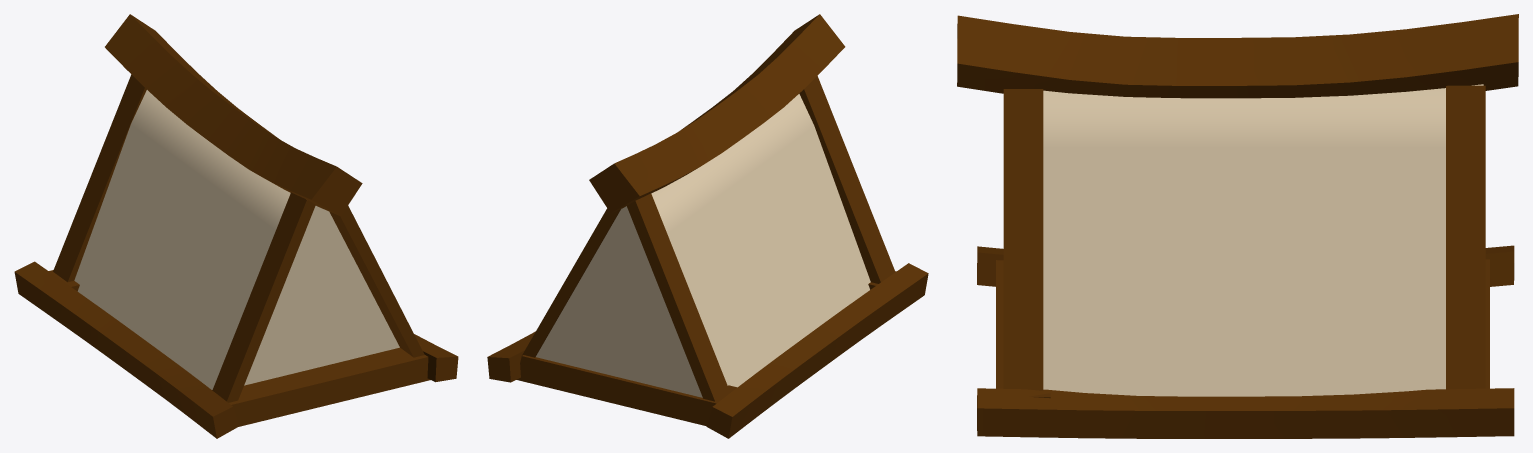
The model's file is roof2LowP.fbx.
The picture shows the model from 3 angles, left to right: view 1: azimuth 30°, elevation 25°; view 2: azimuth 150°, elevation 25°; view 3: azimuth 270°, elevation 25°; orthographic projection. The views are drawn at different scales.
Parts seen in each view (by area): view 1: pCube123, pCube24, pCube143, pCube124, pCube125, pCube130, pCube126, pCube142; view 2: pCube123, pCube24, pCube143, pCube130, pCube128, pCube125, pCube131, pCube142; view 3: pCube123, pCube24, pCube142, pCube126, pCube131, pCube143, pCube124, pCube128.
Part boxes in pixels (x1=…): pCube123: x1=74, y1=90, x2=399, y2=389; pCube24: x1=105, y1=14, x2=362, y2=216; pCube143: x1=14, y1=261, x2=238, y2=438; pCube124: x1=229, y1=344, x2=430, y2=426; pCube125: x1=212, y1=192, x2=315, y2=402; pCube130: x1=53, y1=74, x2=146, y2=282; pCube126: x1=329, y1=205, x2=424, y2=357; pCube142: x1=414, y1=334, x2=458, y2=382; pCube123: x1=536, y1=94, x2=870, y2=397; pCube24: x1=589, y1=14, x2=845, y2=213; pCube143: x1=706, y1=263, x2=928, y2=438; pCube130: x1=627, y1=193, x2=729, y2=401; pCube128: x1=516, y1=355, x2=737, y2=426; pCube125: x1=799, y1=76, x2=895, y2=283; pCube131: x1=522, y1=208, x2=620, y2=357; pCube142: x1=487, y1=331, x2=535, y2=382; pCube123: x1=1043, y1=84, x2=1483, y2=396; pCube24: x1=957, y1=14, x2=1518, y2=98; pCube142: x1=977, y1=388, x2=1514, y2=438; pCube126: x1=1003, y1=89, x2=1043, y2=390; pCube131: x1=1446, y1=85, x2=1485, y2=389; pCube143: x1=977, y1=245, x2=1514, y2=286; pCube124: x1=996, y1=260, x2=1050, y2=398; pCube128: x1=1485, y1=259, x2=1489, y2=388.
Size of the model in its own units: 21.73 by 21.65 by 31.6.
